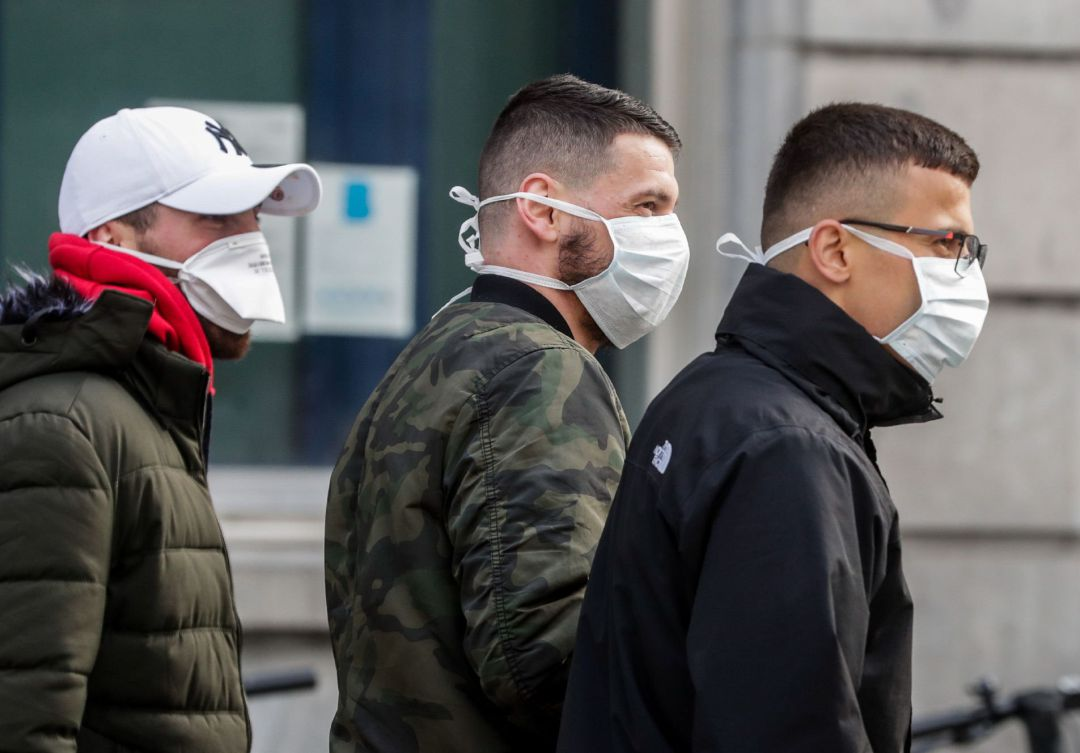with_mask: (459, 74, 699, 358), (69, 109, 307, 365), (803, 125, 1007, 395)
